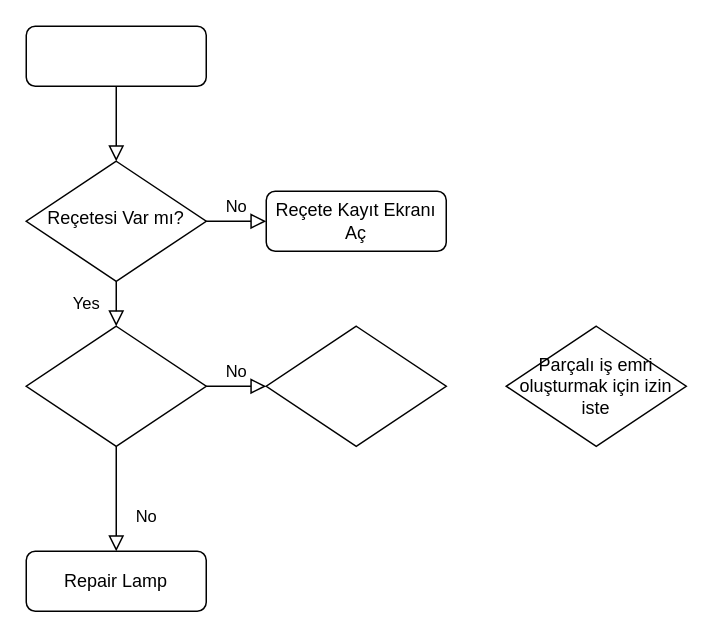
Image size: 713x638. Some labels were removed from this diagram. The centre of each missing label's shape, as x and y in pixels:
Depoda Yeterli ürünün var mı?: point 115,385
İş Emri Ver: point 115,55
